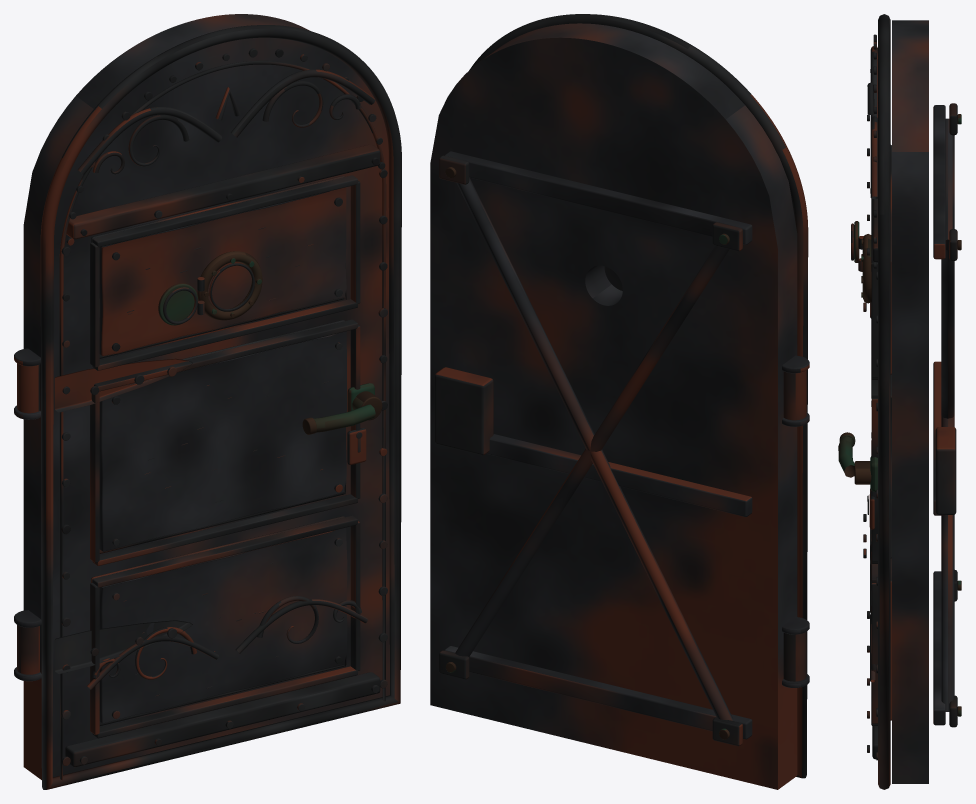
Rendered from herrero-door-v018-pbr512-mobile.glb.
3 views of the same model, side by side, from view 1: azimuth 30°, elevation 25°; view 2: azimuth 150°, elevation 25°; view 3: azimuth 270°, elevation 25° (orthographic). The views are drawn at different scales.
Parts seen in each view (by area): view 1: Door_arched_iron_body, Hand-hammered_twisted_sheet_1, Hand-hammered_twisted_sheet_0, Outer_arch_rolled_rim, Hand-hammered_twisted_sheet_2, Heavy_merchant_shop_crossbar.001, Heavy_merchant_shop_crossbar, Inner_arch_raised_bead, Functional_riveted_hinge_strap, Forged_panel_horizontal_lip.001, Forged_panel_horizontal_lip.005, Forged_panel_horizontal_lip.002 (+24 smaller); view 2: Door_arched_iron_body, Outer_arch_rolled_rim, Interior_diagonal_stiffener, Interior_diagonal_stiffener.001, Interior_forged_crossbrace.002, Interior_forged_crossbrace, Interior_forged_crossbrace.001, Interior_lock_case, Functional_vertical_hinge_barrel, Functional_vertical_hinge_barrel.001, Structural_rear_brace_end_plate.003, Structural_rear_brace_end_plate.001; view 3: Door_arched_iron_body, Outer_arch_rolled_rim, Interior_diagonal_stiffener.001, Interior_diagonal_stiffener, Interior_forged_crossbrace.002, Interior_lock_case, Interior_forged_crossbrace, Forged_panel_vertical_lip.001, Interior_forged_crossbrace.001, Forged_panel_vertical_lip.005, Forged_panel_vertical_lip.003, Upper_sweeping_arch_vine.001 (+12 smaller).
Boxes of the visible parts, bbox=[...] form: Door_arched_iron_body: bbox=[23, 14, 389, 779]; Hand-hammered_twisted_sheet_1: bbox=[99, 331, 346, 551]; Hand-hammered_twisted_sheet_0: bbox=[99, 527, 347, 723]; Outer_arch_rolled_rim: bbox=[40, 25, 401, 789]; Hand-hammered_twisted_sheet_2: bbox=[99, 187, 346, 356]; Heavy_merchant_shop_crossbar.001: bbox=[66, 144, 380, 239]; Heavy_merchant_shop_crossbar: bbox=[65, 672, 380, 767]; Inner_arch_raised_bead: bbox=[59, 60, 386, 780]; Functional_riveted_hinge_strap: bbox=[54, 620, 192, 673]; Forged_panel_horizontal_lip.001: bbox=[92, 515, 357, 587]; Forged_panel_horizontal_lip.005: bbox=[92, 175, 357, 247]; Forged_panel_horizontal_lip.002: bbox=[92, 494, 357, 565]; Door_arched_iron_body: bbox=[430, 23, 797, 789]; Outer_arch_rolled_rim: bbox=[469, 14, 808, 778]; Interior_diagonal_stiffener: bbox=[456, 177, 733, 720]; Interior_diagonal_stiffener.001: bbox=[455, 246, 729, 656]; Interior_forged_crossbrace.002: bbox=[444, 151, 752, 244]; Interior_forged_crossbrace: bbox=[444, 646, 752, 739]; Interior_forged_crossbrace.001: bbox=[486, 434, 752, 516]; Interior_lock_case: bbox=[434, 367, 493, 455]; Functional_vertical_hinge_barrel: bbox=[783, 632, 806, 681]; Functional_vertical_hinge_barrel.001: bbox=[783, 370, 806, 420]; Structural_rear_brace_end_plate.003: bbox=[712, 222, 742, 251]; Structural_rear_brace_end_plate.001: bbox=[439, 155, 469, 184]; Door_arched_iron_body: bbox=[892, 20, 928, 783]; Outer_arch_rolled_rim: bbox=[878, 14, 890, 789]; Interior_diagonal_stiffener.001: bbox=[941, 118, 954, 711]; Interior_diagonal_stiffener: bbox=[941, 239, 954, 418]; Interior_forged_crossbrace.002: bbox=[933, 105, 945, 259]; Interior_lock_case: bbox=[935, 427, 956, 514]; Interior_forged_crossbrace: bbox=[933, 571, 945, 725]; Forged_panel_vertical_lip.001: bbox=[871, 583, 877, 723]; Interior_forged_crossbrace.001: bbox=[933, 361, 944, 515]; Forged_panel_vertical_lip.005: bbox=[871, 262, 877, 377]; Forged_panel_vertical_lip.003: bbox=[871, 398, 877, 561]; Upper_sweeping_arch_vine.001: bbox=[870, 116, 877, 199].
Size of the model in its own units: 1.25 by 2.3 by 0.3809.
Materials: 4 (4 with a texture image).
